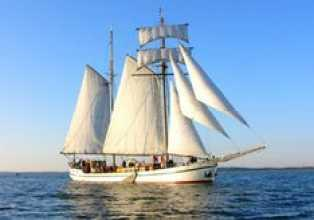fanchuan: (58, 14, 263, 181)
